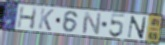5: (108, 13, 126, 39)
6: (62, 10, 80, 33)
H: (16, 5, 39, 30)
K: (37, 7, 55, 32)
N: (81, 11, 103, 36), (126, 15, 148, 40)
